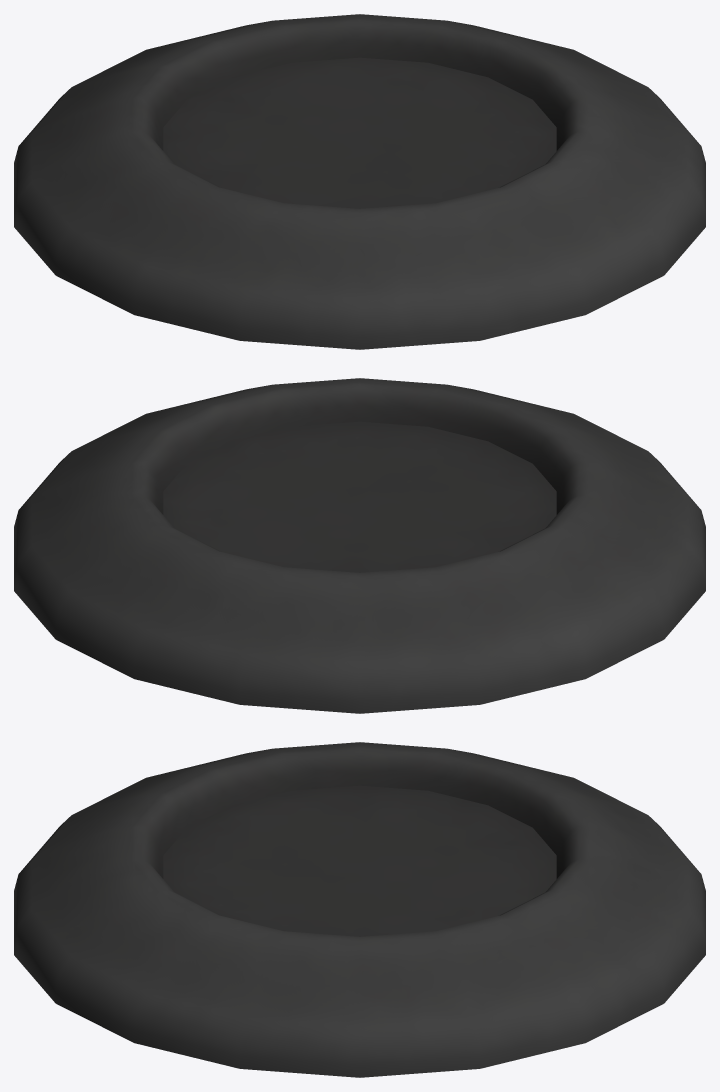
Rendered from GardenBambrellaRing01.FBX.
3 renders of one model, top to bottom at view 1: azimuth 30°, elevation 25°; view 2: azimuth 150°, elevation 25°; view 3: azimuth 270°, elevation 25°, orthographic.
Visible parts, largest first — view 1: GardenBambrellaRing01; view 2: GardenBambrellaRing01; view 3: GardenBambrellaRing01.
Part boxes in pixels (x1,y1,x2,y2): GardenBambrellaRing01: (14,14,705,349); GardenBambrellaRing01: (14,378,705,713); GardenBambrellaRing01: (14,742,705,1077).
Size of what is drawn, in the model's own units: 0.0794 by 0.0108 by 0.0782.
